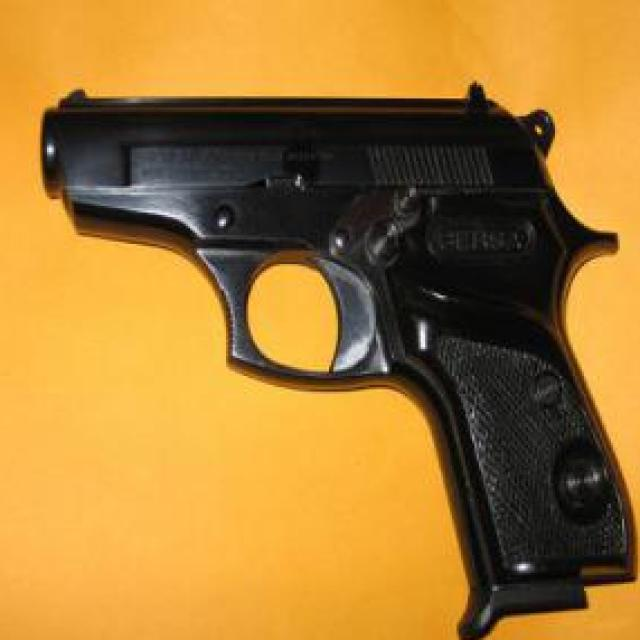pistol: (40, 80, 635, 640)
